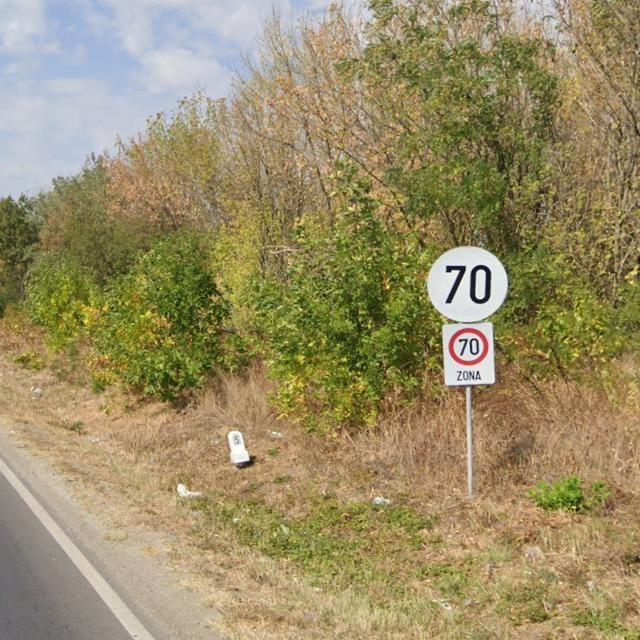forb_speed_over_70: (427, 246, 509, 323), (448, 327, 491, 365)
